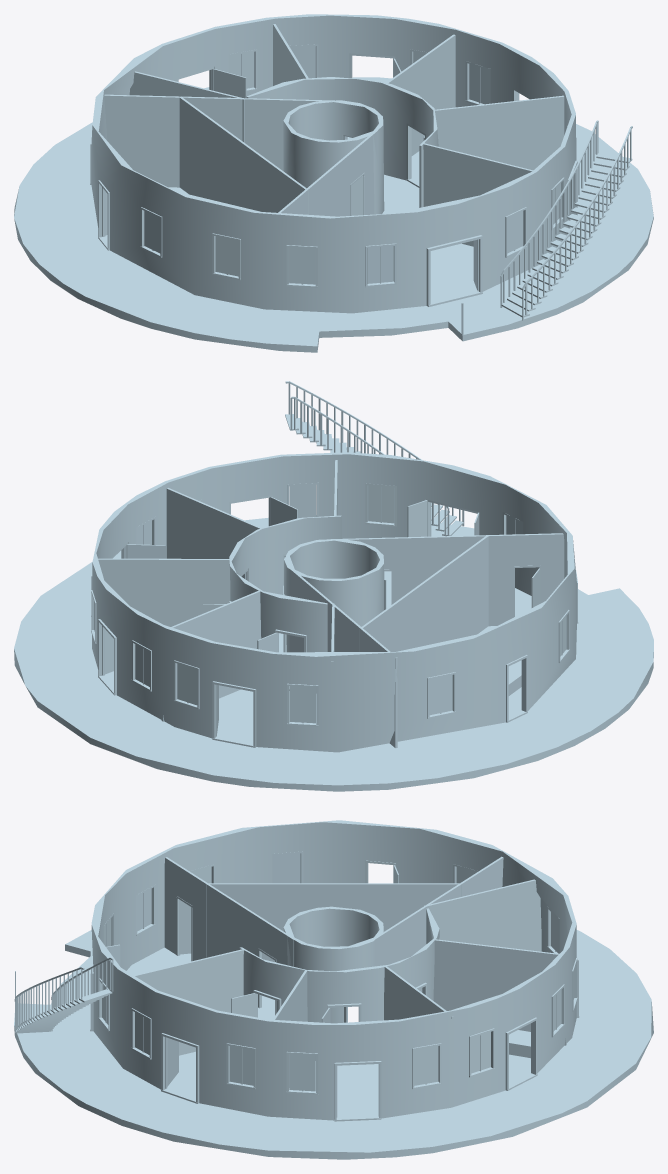
File: tower_floor_lod2.glb
3 renders of one model, top to bottom at view 1: azimuth 30°, elevation 25°; view 2: azimuth 150°, elevation 25°; view 3: azimuth 270°, elevation 25°, orthographic.
Visible parts, largest first — view 1: Facade 0, Slab 0, Radial demise wall (×5), Core tangent wall, Bedroom-bath wall, Elevator shell 0, Corridor wall 0, Window glass (×8), Living-bedroom separator (×3), Door leaf, Separator door leaf (bath); view 2: Facade 0, Slab 0, Radial demise wall (×3), Bedroom-bath wall, Living-bedroom separator (×3), Corridor wall 0, Elevator shell 0, Window glass (×5), Core tangent wall, Door leaf (×2), Main door leaf; view 3: Facade 0, Slab 0, Radial demise wall (×5), Corridor wall 0, Living-bedroom separator (×5), Bedroom-bath wall, Elevator shell 0, Window glass (×7), Core tangent wall, Door leaf (×2), Separator door leaf (bed), Bed (single).
Boxes of the visible parts, x1,y1,x2,y2 form: Facade 0: (91, 14, 575, 313); Slab 0: (14, 77, 653, 352); Radial demise wall (×5): (129, 24, 564, 246); Core tangent wall: (104, 94, 337, 187); Bedroom-bath wall: (179, 97, 308, 214); Elevator shell 0: (283, 100, 384, 214); Corridor wall 0: (246, 77, 438, 207); Window glass (×8): (144, 46, 523, 284); Living-bedroom separator (×3): (295, 130, 378, 216); Door leaf: (210, 69, 246, 98); Separator door leaf (bath): (351, 176, 364, 215); Facade 0: (92, 452, 576, 752); Slab 0: (14, 515, 653, 791); Radial demise wall (×3): (98, 488, 262, 721); Bedroom-bath wall: (359, 536, 488, 651); Living-bedroom separator (×3): (394, 533, 564, 626); Corridor wall 0: (229, 515, 341, 693); Elevator shell 0: (284, 539, 384, 652); Window glass (×5): (177, 484, 452, 723); Core tangent wall: (290, 568, 397, 748); Door leaf (×2): (124, 497, 297, 558); Main door leaf: (407, 500, 430, 536); Facade 0: (91, 820, 576, 1120); Slab 0: (14, 930, 653, 1159); Radial demise wall (×5): (134, 879, 566, 1087); Corridor wall 0: (239, 908, 439, 1060); Living-bedroom separator (×5): (164, 857, 294, 1013); Bedroom-bath wall: (206, 883, 461, 961); Elevator shell 0: (283, 906, 383, 1023); Window glass (×7): (135, 853, 490, 1091); Core tangent wall: (373, 856, 503, 992); Door leaf (×2): (165, 993, 257, 1088); Separator door leaf (bed): (177, 899, 191, 954); Bed (single): (509, 1030, 530, 1058).
Size of the model in its own units: 19.99 by 4.84 by 19.97.
